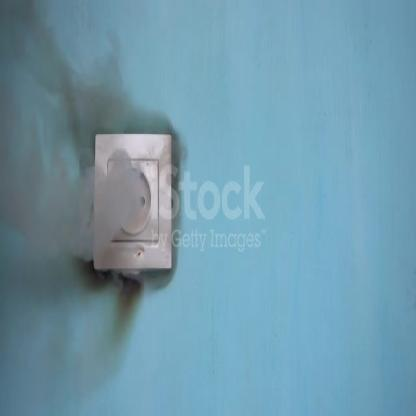smoke: (0, 3, 183, 407)
